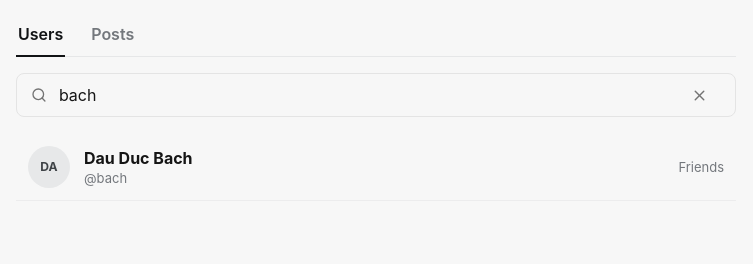
Test: SearchWorkspace › keeps the query while switching tabs and ignores an older response
This screenshot has width=753, height=264.
Expected: the text "Dau Duc Bach" is shown, [84,148,193,168]
Click the tab "Posts": [113, 34] box [89,12,136,56]
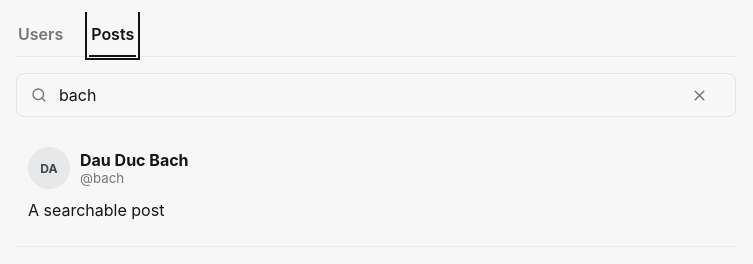
Expected: the search field holds "bach", [57,84,667,106]
Expected: the text "A searchable post" is shown, [28,200,164,220]
